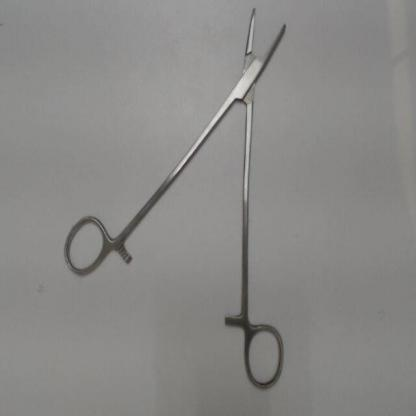8 Mayo Needle Holder: (55, 1, 300, 398)
